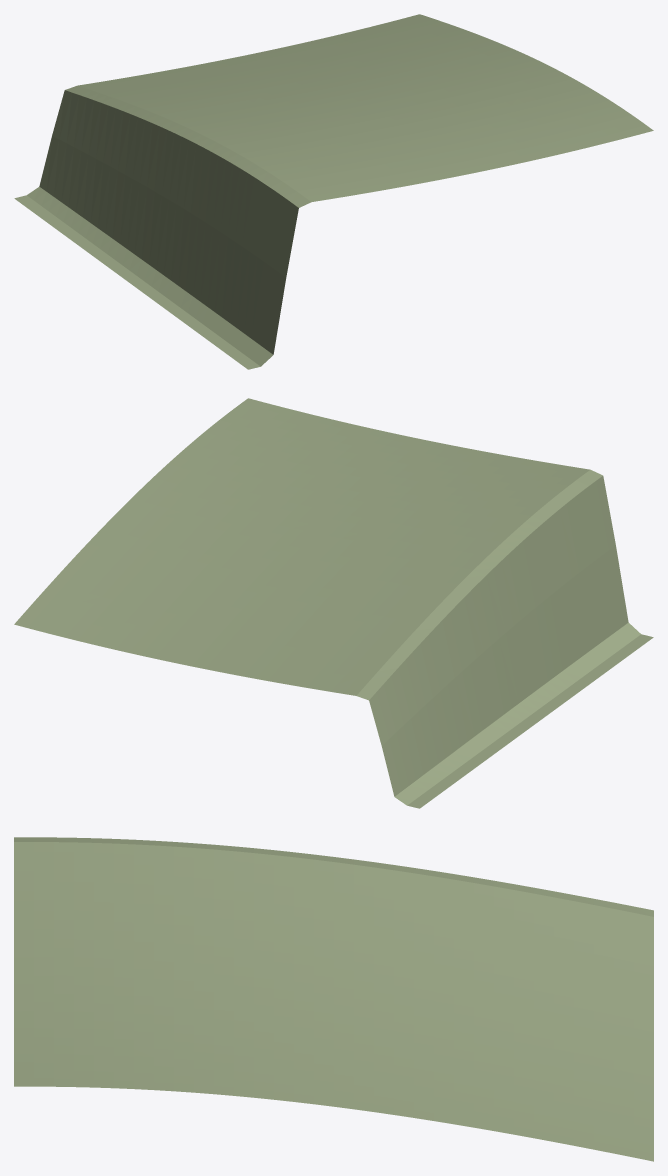
The model's file is valley-8-0.glb.
3 renders of one model, top to bottom at view 1: azimuth 30°, elevation 25°; view 2: azimuth 150°, elevation 25°; view 3: azimuth 270°, elevation 25°, orthographic. The views are drawn at different scales.
Visible parts, largest first — view 1: valley-8-0; view 2: valley-8-0; view 3: valley-8-0.
Boxes of the visible parts, bbox=[...] form: valley-8-0: bbox=[14, 14, 653, 369]; valley-8-0: bbox=[14, 398, 653, 808]; valley-8-0: bbox=[14, 837, 653, 1161].
Size of the model in its own units: 256 by 91.77 by 256.
